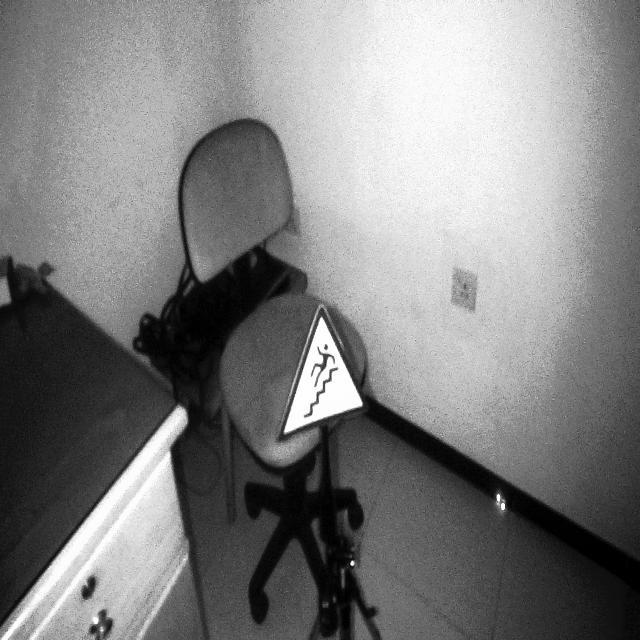Sign: (277, 302, 371, 446)
